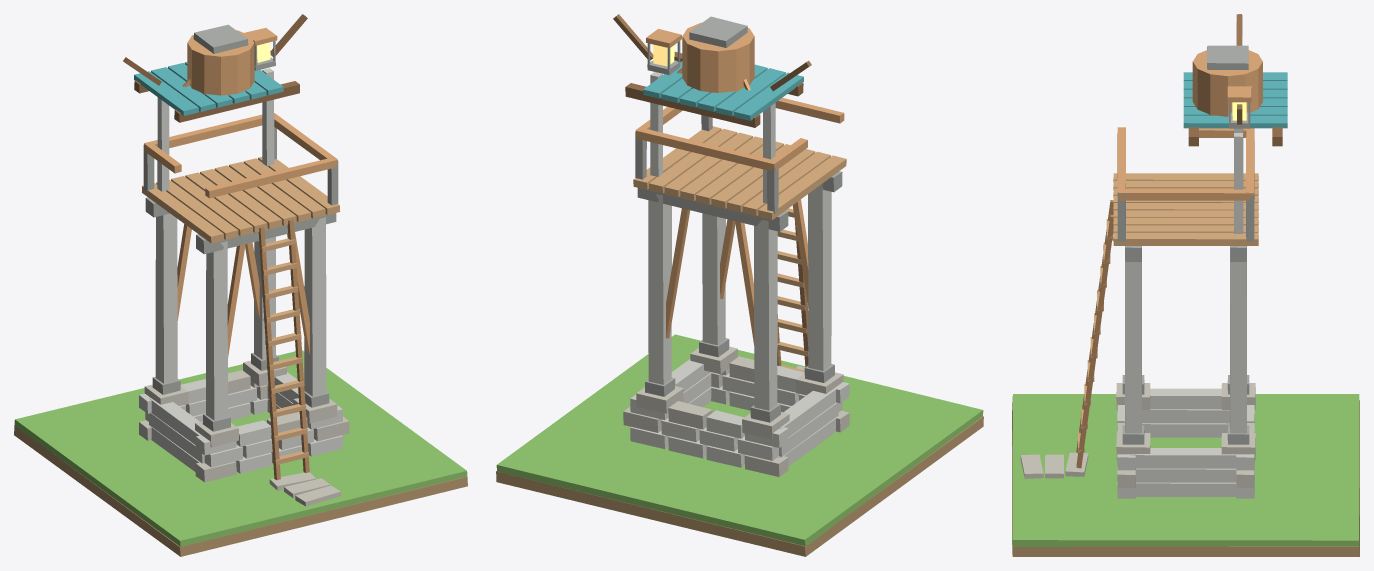
File: tower_l05_active_LOD2.glb
3 renders of one model, left to right at view 1: azimuth 30°, elevation 25°; view 2: azimuth 150°, elevation 25°; view 3: azimuth 270°, elevation 25°, orthographic. The views are drawn at different scales.
Visible parts, largest first — view 1: tower_l05_grass_tile_tower_l05_active_LOD2_tmp, tower_l05_earth_tile_tower_l05_active_LOD2_tmp, post_-0.61_0.54_tower_l05_active_LOD2_tmp, post_-0.61_-0.54_tower_l05_active_LOD2_tmp, post_0.61_-0.54_tower_l05_active_LOD2_tmp, relay_drum_tower_l05_active_LOD2_tmp, ladder_rail_-0.18_tower_l05_active_LOD2_tmp, balcony_rail_-0.66_tower_l05_active_LOD2_tmp, post_0.61_0.54_tower_l05_active_LOD2_tmp, ladder_rail_0.18_tower_l05_active_LOD2_tmp, deck_board_0_tower_l05_active_LOD2_tmp, deck_bearer_-0.54_tower_l05_active_LOD2_tmp (+29 smaller); view 2: tower_l05_grass_tile_tower_l05_active_LOD2_tmp, tower_l05_earth_tile_tower_l05_active_LOD2_tmp, post_-0.61_0.54_tower_l05_active_LOD2_tmp, post_-0.61_-0.54_tower_l05_active_LOD2_tmp, post_0.61_0.54_tower_l05_active_LOD2_tmp, relay_drum_tower_l05_active_LOD2_tmp, post_0.61_-0.54_tower_l05_active_LOD2_tmp, balcony_rail_0.66_tower_l05_active_LOD2_tmp, deck_bearer_0.54_tower_l05_active_LOD2_tmp, deck_board_0_tower_l05_active_LOD2_tmp, stone_return_2_-0.72_tower_l05_active_LOD2_tmp, relay_drum_cover_tower_l05_active_LOD2_tmp (+37 smaller); view 3: tower_l05_grass_tile_tower_l05_active_LOD2_tmp, tower_l05_earth_tile_tower_l05_active_LOD2_tmp, relay_drum_tower_l05_active_LOD2_tmp, post_0.61_0.54_tower_l05_active_LOD2_tmp, post_0.61_-0.54_tower_l05_active_LOD2_tmp, stone_return_2_0.72_tower_l05_active_LOD2_tmp, deck_board_8_tower_l05_active_LOD2_tmp, stone_return_2_-0.72_tower_l05_active_LOD2_tmp, balcony_side_rail_tower_l05_active_LOD2_tmp, stone_return_0_0.72_tower_l05_active_LOD2_tmp, stone_return_1_0.72_tower_l05_active_LOD2_tmp, ladder_rail_0.18_tower_l05_active_LOD2_tmp (+18 smaller).
Part boxes in pixels (bbox=[...]): tower_l05_grass_tile_tower_l05_active_LOD2_tmp: bbox=[14, 350, 467, 546]; tower_l05_earth_tile_tower_l05_active_LOD2_tmp: bbox=[14, 425, 467, 556]; post_-0.61_0.54_tower_l05_active_LOD2_tmp: bbox=[155, 213, 177, 383]; post_-0.61_-0.54_tower_l05_active_LOD2_tmp: bbox=[206, 241, 227, 420]; post_0.61_-0.54_tower_l05_active_LOD2_tmp: bbox=[304, 217, 326, 396]; relay_drum_tower_l05_active_LOD2_tmp: bbox=[187, 30, 254, 95]; ladder_rail_-0.18_tower_l05_active_LOD2_tmp: bbox=[258, 226, 280, 479]; balcony_rail_-0.66_tower_l05_active_LOD2_tmp: bbox=[205, 158, 337, 198]; post_0.61_0.54_tower_l05_active_LOD2_tmp: bbox=[254, 236, 275, 359]; ladder_rail_0.18_tower_l05_active_LOD2_tmp: bbox=[287, 219, 309, 472]; deck_board_0_tower_l05_active_LOD2_tmp: bbox=[142, 183, 223, 243]; deck_bearer_-0.54_tower_l05_active_LOD2_tmp: bbox=[196, 213, 336, 254]; tower_l05_grass_tile_tower_l05_active_LOD2_tmp: bbox=[496, 334, 983, 546]; tower_l05_earth_tile_tower_l05_active_LOD2_tmp: bbox=[496, 416, 983, 556]; post_-0.61_0.54_tower_l05_active_LOD2_tmp: bbox=[754, 220, 777, 410]; post_-0.61_-0.54_tower_l05_active_LOD2_tmp: bbox=[808, 183, 831, 370]; post_0.61_0.54_tower_l05_active_LOD2_tmp: bbox=[648, 194, 671, 384]; relay_drum_tower_l05_active_LOD2_tmp: bbox=[682, 22, 754, 93]; post_0.61_-0.54_tower_l05_active_LOD2_tmp: bbox=[702, 213, 725, 345]; balcony_rail_0.66_tower_l05_active_LOD2_tmp: bbox=[635, 127, 774, 170]; deck_bearer_0.54_tower_l05_active_LOD2_tmp: bbox=[637, 188, 788, 231]; deck_board_0_tower_l05_active_LOD2_tmp: bbox=[758, 155, 846, 220]; stone_return_2_-0.72_tower_l05_active_LOD2_tmp: bbox=[779, 388, 836, 436]; relay_drum_cover_tower_l05_active_LOD2_tmp: bbox=[689, 16, 747, 47]; tower_l05_grass_tile_tower_l05_active_LOD2_tmp: bbox=[1012, 394, 1359, 546]; tower_l05_earth_tile_tower_l05_active_LOD2_tmp: bbox=[1012, 400, 1359, 556]; relay_drum_tower_l05_active_LOD2_tmp: bbox=[1192, 50, 1262, 116]; post_0.61_0.54_tower_l05_active_LOD2_tmp: bbox=[1230, 249, 1246, 433]; post_0.61_-0.54_tower_l05_active_LOD2_tmp: bbox=[1125, 246, 1141, 433]; stone_return_2_0.72_tower_l05_active_LOD2_tmp: bbox=[1130, 448, 1236, 468]; deck_board_8_tower_l05_active_LOD2_tmp: bbox=[1113, 232, 1258, 245]; stone_return_2_-0.72_tower_l05_active_LOD2_tmp: bbox=[1150, 388, 1221, 409]; balcony_side_rail_tower_l05_active_LOD2_tmp: bbox=[1119, 189, 1252, 200]; stone_return_0_0.72_tower_l05_active_LOD2_tmp: bbox=[1135, 482, 1236, 496]; stone_return_1_0.72_tower_l05_active_LOD2_tmp: bbox=[1135, 468, 1236, 482]; ladder_rail_0.18_tower_l05_active_LOD2_tmp: bbox=[1076, 214, 1113, 468].
Size of the model in its own units: 3.57 by 4.87 by 3.57.
